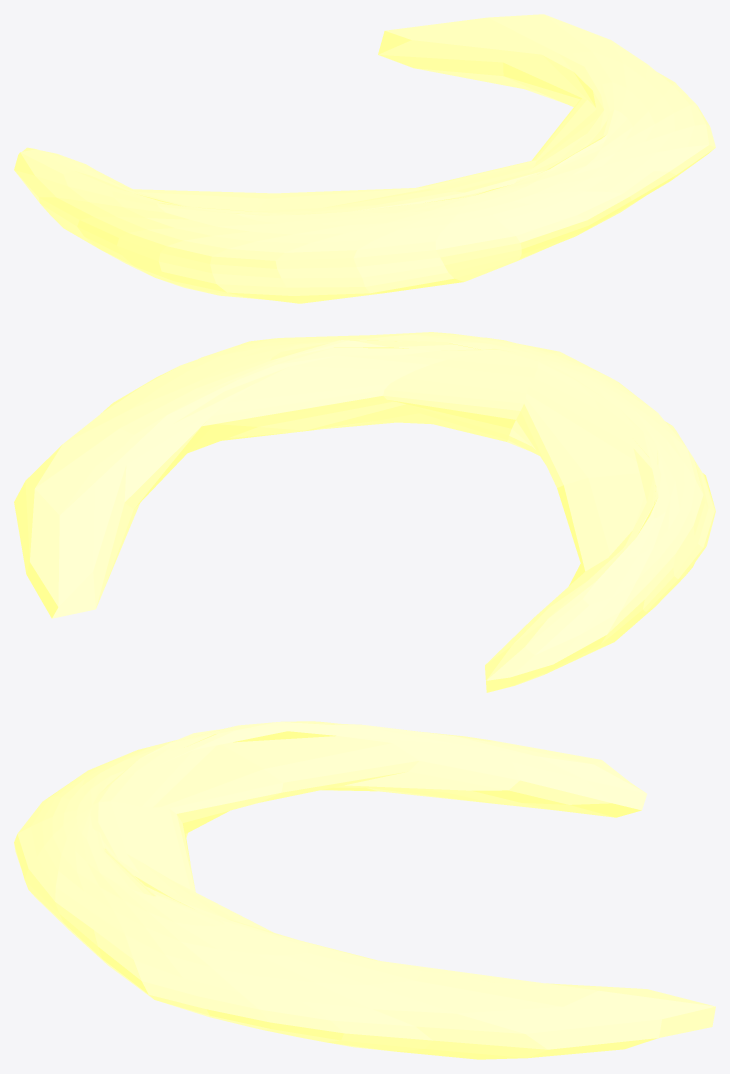
The model's file is boomerang.fbx.
3 views of the same model, one above another, from view 1: azimuth 30°, elevation 25°; view 2: azimuth 150°, elevation 25°; view 3: azimuth 270°, elevation 25° (orthographic). The views are drawn at different scales.
Visible parts, largest first — view 1: Boomerang; view 2: Boomerang; view 3: Boomerang.
Part boxes in pixels (<box>): Boomerang: <box>14,14,715,303</box>; Boomerang: <box>14,332,715,692</box>; Boomerang: <box>14,721,715,1059</box>.
Size of the model in its own units: 300 by 54.09 by 287.
